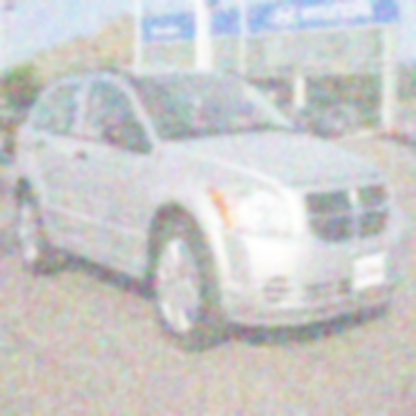Vehicle: (12, 64, 412, 356)
